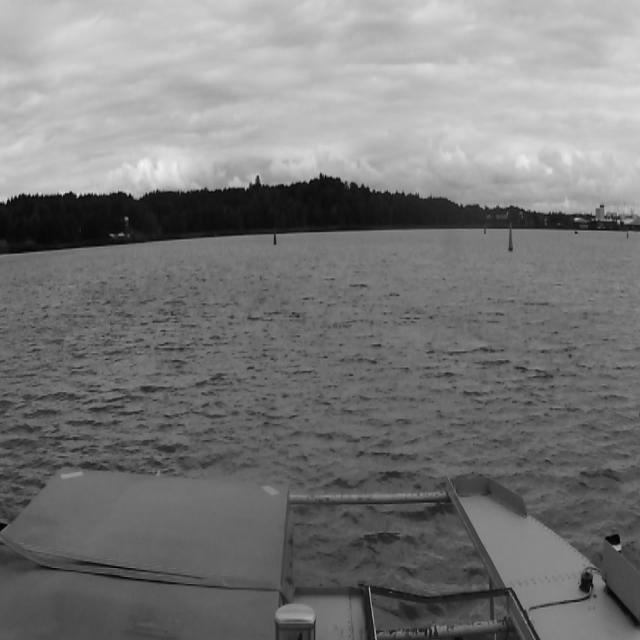buoy: (508, 225, 514, 250), (274, 230, 276, 244)
